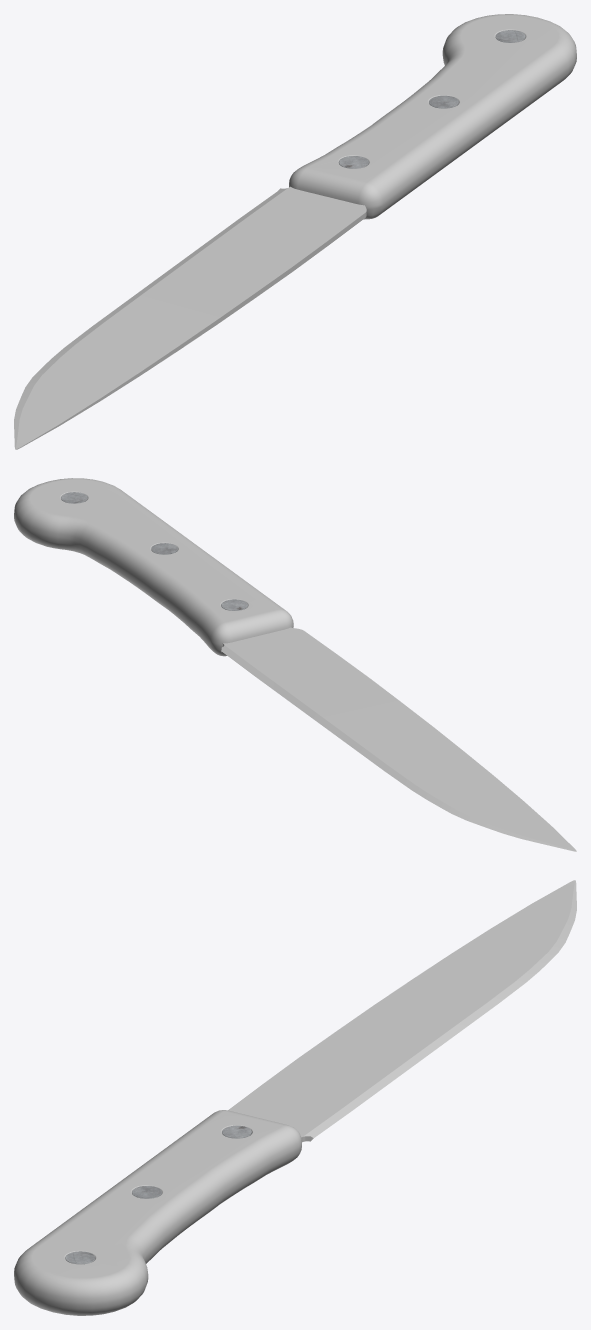
The model's file is Knife.fbx.
3 views of the same model, one above another, from view 1: azimuth 90°, elevation 25°; view 2: azimuth 150°, elevation 25°; view 3: azimuth 270°, elevation 25° (orthographic). The views are drawn at different scales.
Visible parts, largest first — view 1: knife; view 2: knife; view 3: knife.
Part boxes in pixels (left/top/right/bottom): knife: left=14, top=14, right=576, bottom=449; knife: left=14, top=478, right=576, bottom=851; knife: left=14, top=880, right=576, bottom=1315.
Bounding box in the file's own units: 201 × 8 × 113.
